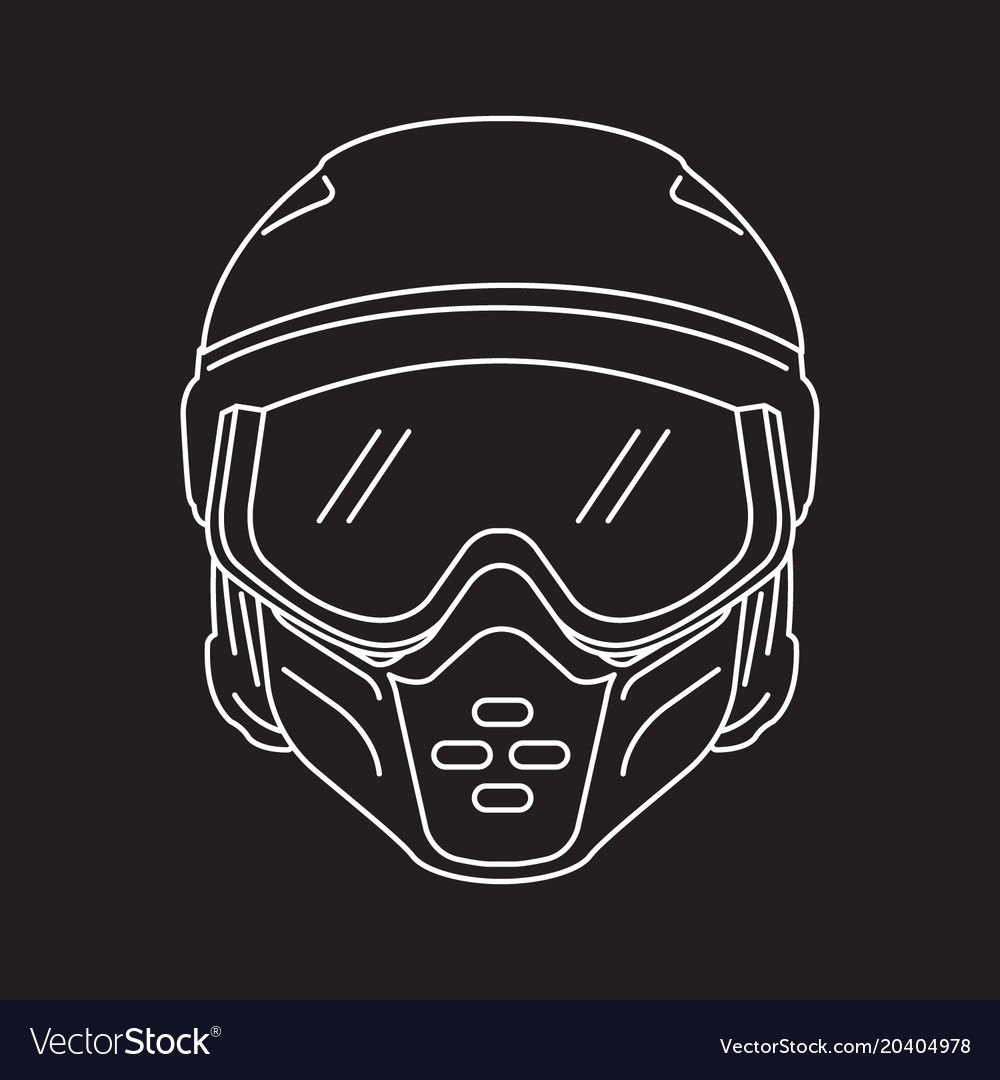with_helmet: (148, 51, 871, 926)
